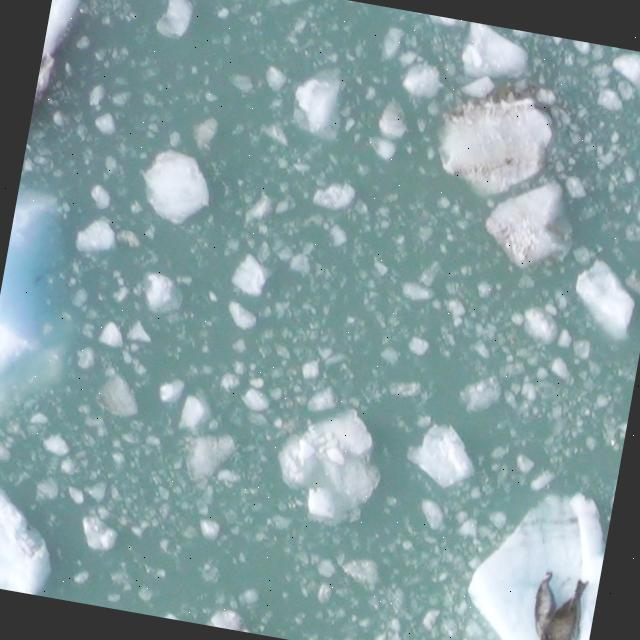seal: (532, 569, 590, 640), (525, 565, 569, 640)
